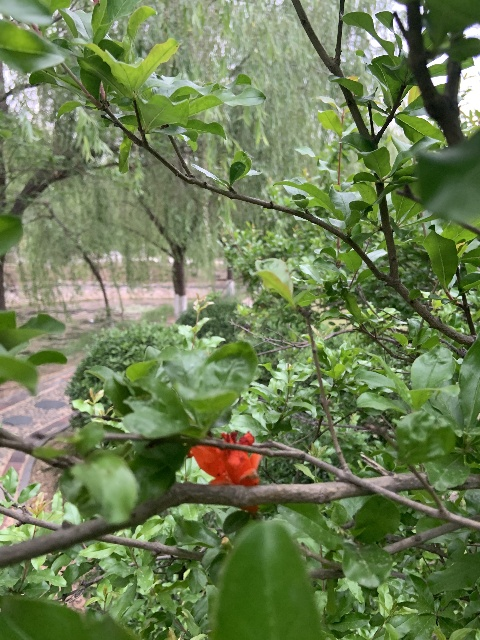flower: (188, 430, 263, 513)
